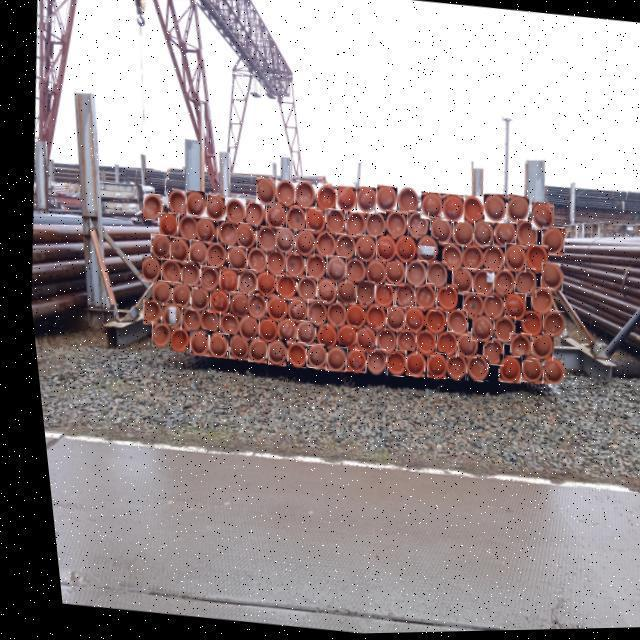pipe: (500, 196, 524, 227), (535, 228, 559, 258), (512, 356, 536, 386), (467, 221, 490, 251), (509, 221, 532, 251), (519, 246, 542, 275), (534, 311, 557, 340), (523, 334, 546, 363), (497, 245, 520, 274), (427, 331, 450, 360), (416, 193, 438, 223), (447, 220, 469, 250), (508, 269, 530, 299), (464, 315, 486, 345), (310, 185, 332, 214), (371, 186, 393, 215), (401, 213, 423, 242), (479, 196, 501, 225), (527, 204, 549, 233), (490, 357, 512, 386), (486, 270, 508, 299), (455, 293, 477, 322), (420, 261, 441, 291), (309, 231, 330, 261), (380, 212, 402, 240), (534, 265, 556, 293), (523, 289, 545, 317), (497, 295, 519, 323), (445, 269, 467, 297), (429, 285, 451, 313), (399, 261, 421, 289), (378, 260, 400, 288), (339, 211, 360, 240), (489, 221, 510, 250), (486, 318, 507, 347), (476, 294, 497, 323), (280, 205, 300, 235), (502, 336, 524, 363), (458, 356, 480, 383), (347, 326, 369, 353), (317, 346, 339, 373), (351, 187, 372, 215), (438, 196, 459, 224), (534, 359, 555, 387), (513, 312, 534, 340), (475, 340, 496, 368), (437, 354, 458, 382), (477, 247, 498, 275), (456, 246, 477, 274), (418, 309, 439, 337), (378, 306, 399, 334), (358, 305, 379, 333), (329, 234, 350, 262), (289, 276, 310, 304), (138, 193, 158, 222), (271, 181, 291, 210), (360, 211, 380, 240), (319, 256, 339, 285), (220, 200, 241, 227), (425, 219, 446, 246), (466, 271, 487, 298), (411, 238, 432, 265), (260, 203, 280, 231), (251, 178, 271, 206), (436, 245, 456, 273), (368, 283, 388, 311), (370, 236, 390, 264), (359, 260, 379, 288), (319, 301, 339, 329), (299, 300, 319, 328), (172, 214, 192, 242), (212, 268, 232, 296), (459, 197, 478, 226), (339, 258, 358, 287), (439, 310, 460, 336), (408, 286, 429, 312), (357, 349, 378, 375), (298, 344, 319, 370), (162, 190, 182, 217), (201, 195, 221, 222), (300, 208, 320, 235), (291, 182, 311, 209), (320, 210, 340, 237), (393, 189, 413, 216), (397, 352, 417, 379), (388, 330, 408, 357), (377, 351, 397, 378), (390, 237, 410, 264), (350, 236, 370, 263), (250, 317, 270, 344), (270, 274, 290, 301), (289, 230, 309, 257), (230, 224, 250, 251), (231, 270, 251, 297), (164, 282, 184, 309), (154, 303, 174, 330), (310, 279, 329, 307), (328, 325, 349, 350), (418, 354, 438, 380), (338, 348, 358, 374), (309, 324, 329, 350), (221, 335, 241, 361), (260, 251, 280, 277), (144, 234, 164, 260), (181, 192, 200, 219), (389, 284, 408, 311), (369, 329, 388, 356), (339, 304, 358, 331), (280, 298, 299, 325), (240, 337, 259, 364), (251, 226, 270, 253), (212, 221, 231, 248), (182, 240, 201, 267), (241, 248, 260, 275), (203, 289, 222, 316), (212, 312, 231, 339), (201, 332, 220, 359), (183, 285, 202, 312), (135, 256, 154, 283), (449, 334, 469, 359), (332, 187, 351, 213), (408, 331, 427, 357), (398, 308, 417, 334), (300, 255, 319, 281), (279, 343, 298, 369), (280, 253, 299, 279), (222, 247, 241, 273), (223, 292, 242, 318), (182, 330, 201, 356), (162, 327, 181, 353), (174, 306, 193, 332), (175, 263, 194, 289), (155, 259, 174, 285), (145, 280, 164, 306), (241, 201, 259, 228), (260, 340, 278, 367), (202, 243, 220, 270), (193, 309, 211, 336), (330, 281, 349, 306), (289, 322, 308, 347), (270, 229, 289, 254), (153, 213, 172, 238), (144, 323, 163, 348), (350, 282, 368, 308), (232, 315, 250, 341), (242, 294, 260, 320), (261, 296, 279, 322), (192, 218, 210, 244), (193, 266, 211, 292), (270, 319, 288, 344), (164, 238, 182, 263), (251, 273, 269, 297), (136, 300, 153, 325)
